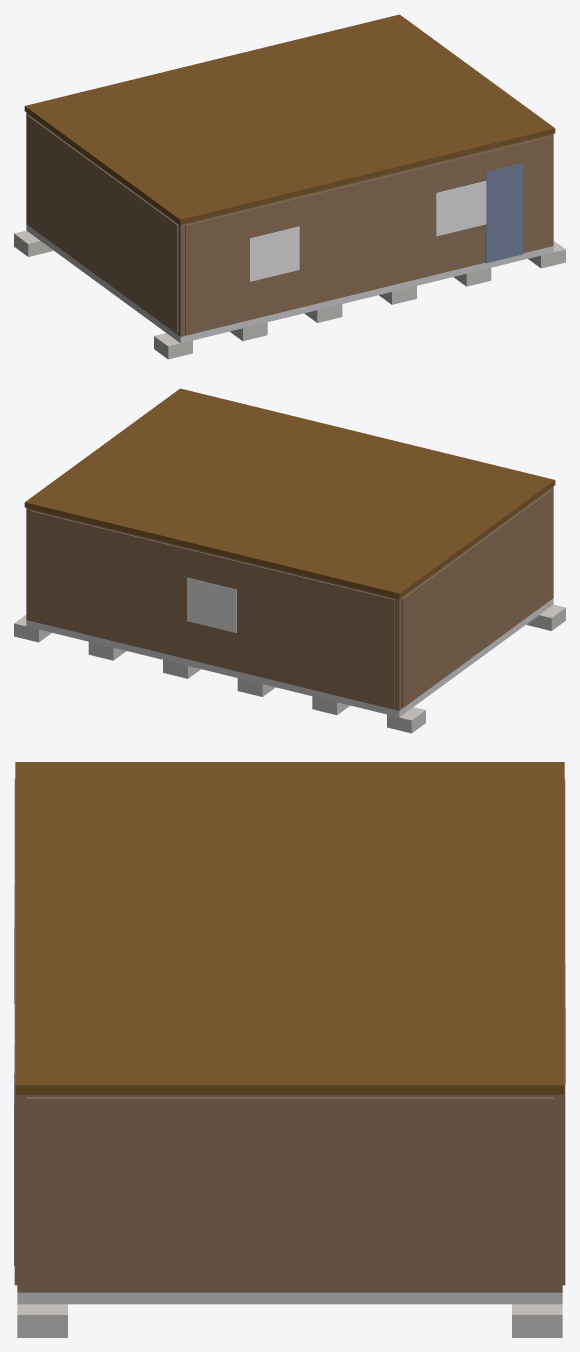
The model's file is Studio-30-Base-DarkBrown-LOD0.glb.
The picture shows the model from 3 angles, top to bottom: view 1: azimuth 30°, elevation 25°; view 2: azimuth 150°, elevation 25°; view 3: azimuth 270°, elevation 25°; orthographic projection. The views are drawn at different scales.
Parts seen in each view (by area): view 1: RoofMain, ExteriorPanelsStandard, WindowsStandard, BaseFrame, FoundationBlocks, ExteriorShell, EntryDoor; view 2: RoofMain, ExteriorPanelsStandard, BaseFrame, FoundationBlocks, ExteriorShell, WindowsStandard; view 3: RoofMain, ExteriorPanelsStandard, ExteriorShell, BaseFrame, FoundationBlocks.
Boxes of the visible parts, x1,y1,x2,y2 form: RoofMain: [24, 14, 555, 224]; ExteriorPanelsStandard: [27, 115, 550, 334]; WindowsStandard: [249, 181, 486, 281]; BaseFrame: [26, 224, 553, 343]; FoundationBlocks: [14, 230, 565, 359]; ExteriorShell: [26, 112, 553, 336]; EntryDoor: [485, 163, 523, 263]; RoofMain: [24, 388, 555, 598]; ExteriorPanelsStandard: [30, 489, 552, 708]; BaseFrame: [26, 598, 553, 717]; FoundationBlocks: [14, 604, 565, 733]; ExteriorShell: [26, 486, 553, 710]; WindowsStandard: [187, 577, 236, 633]; RoofMain: [15, 762, 564, 1094]; ExteriorPanelsStandard: [14, 779, 565, 1289]; ExteriorShell: [17, 1094, 562, 1292]; BaseFrame: [17, 1292, 562, 1304]; FoundationBlocks: [17, 1304, 562, 1337].
Size of the model in its own units: 9.6 by 3.17 by 6.53.
